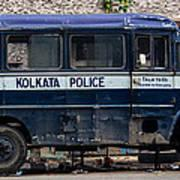Emergency-Vehicles: (0, 5, 180, 159)
